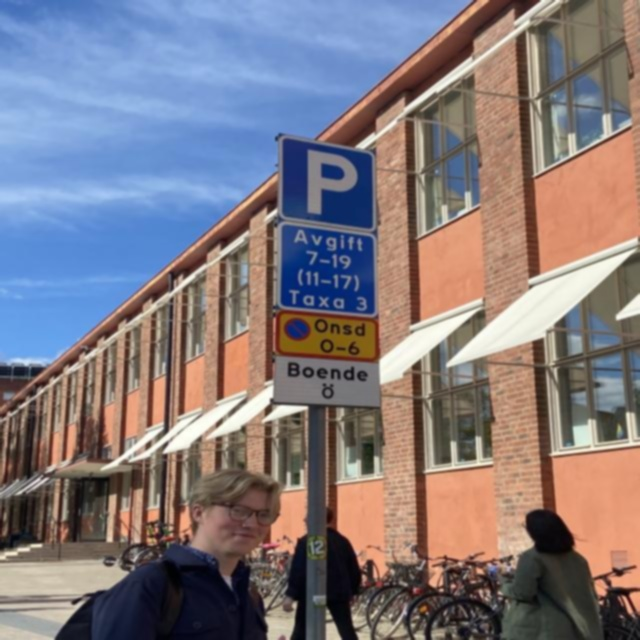P-skylt: (277, 133, 376, 232)
